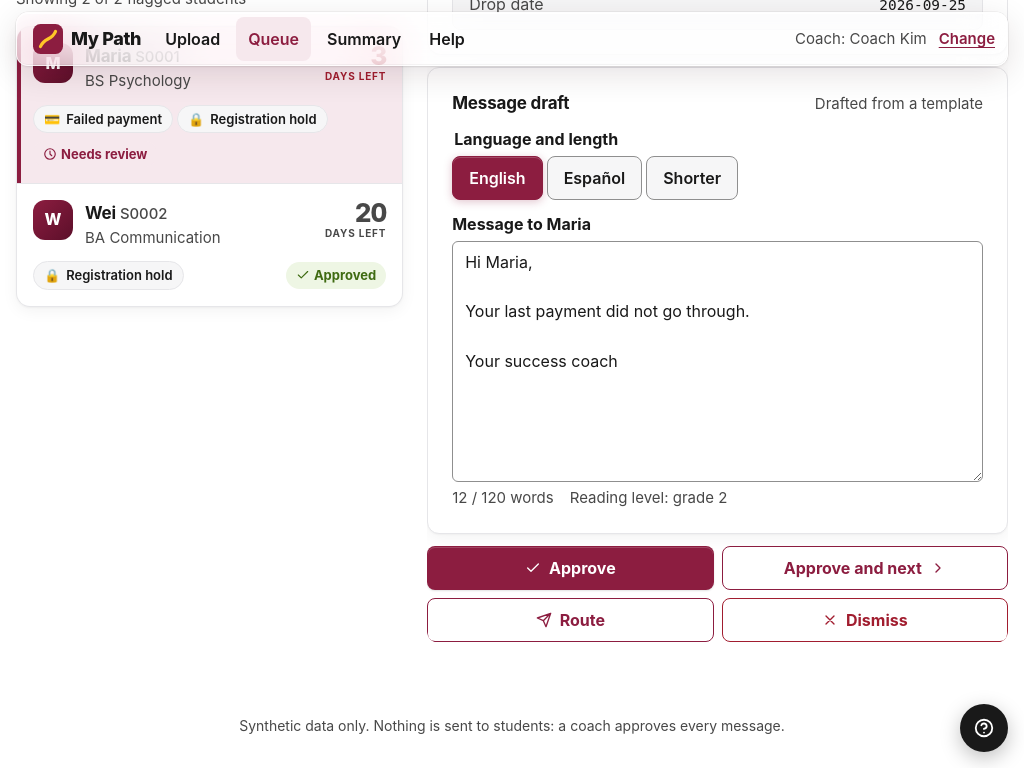
Test case: FlagDetailPage › routes to the suggested office
(page scrolled)
Click the button "Route".
click(570, 620)  # box [427,598,714,642]
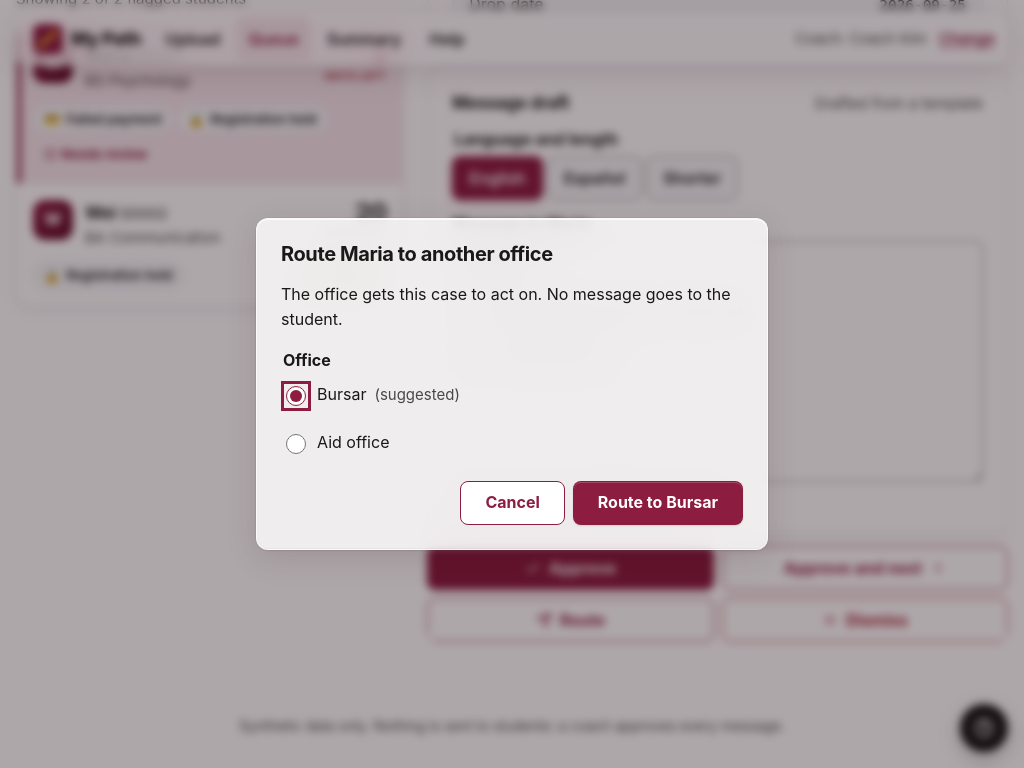
Check: the radio button labelled "Bursar (suggested)" is checked, box [286,386,306,406]
Click the button "Route to Bursar".
click(658, 503)  # box [573,481,743,525]
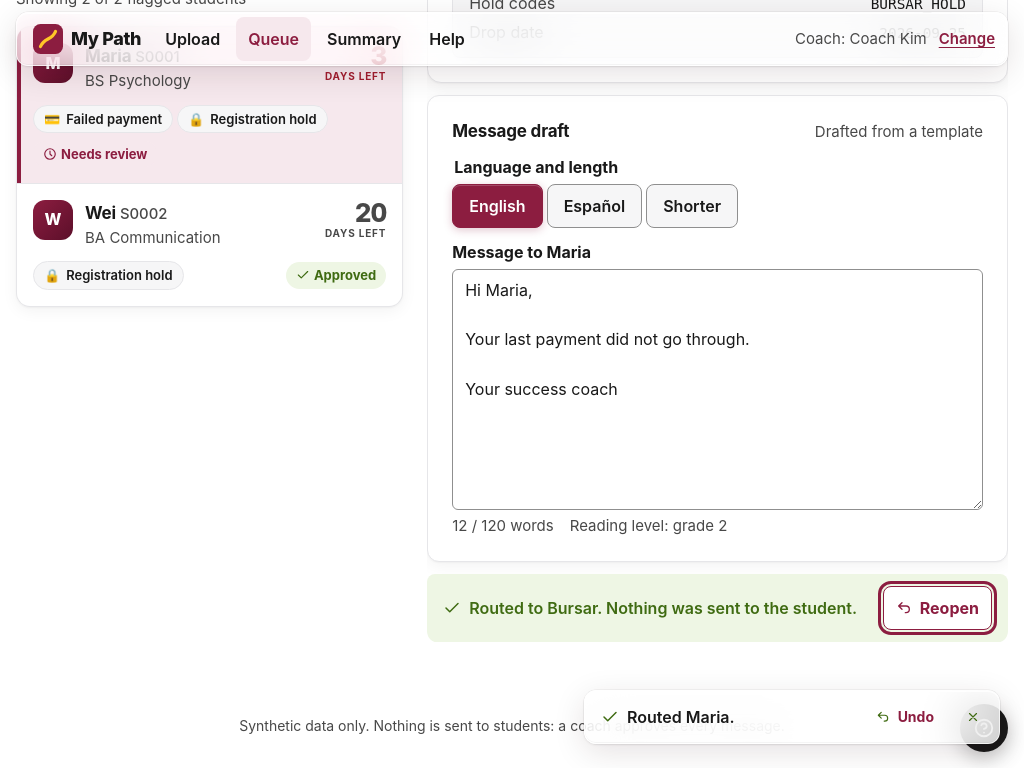
Check: the text "Routed to Bursar. Nothing was sent to the student." is shown, box [443,596,857,621]
